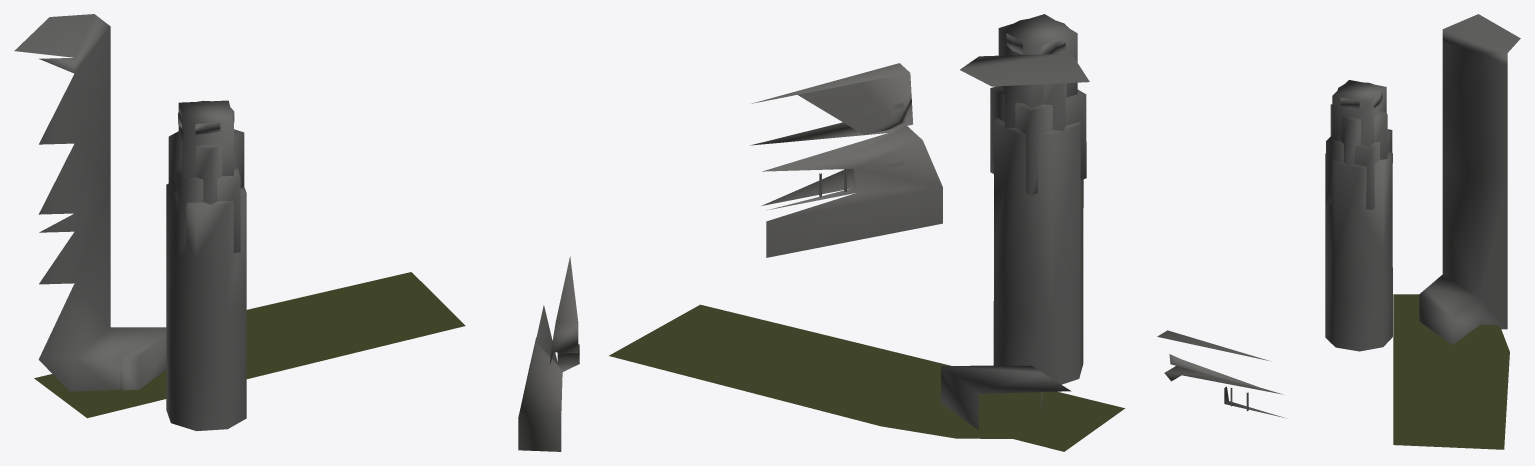
3 views of the same model, side by side, from view 1: azimuth 30°, elevation 25°; view 2: azimuth 150°, elevation 25°; view 3: azimuth 270°, elevation 25° (orthographic). The views are drawn at different scales.
Parts seen in each view (by area): view 1: merged__lod1; view 2: merged__lod1; view 3: merged__lod1.
Boxes of the visible parts, x1,y1,x2,y2 form: merged__lod1: (14,14,579,451); merged__lod1: (609,14,1124,451); merged__lod1: (1157,14,1520,449).
Bounding box in the file's own units: 237 × 179 × 215.
